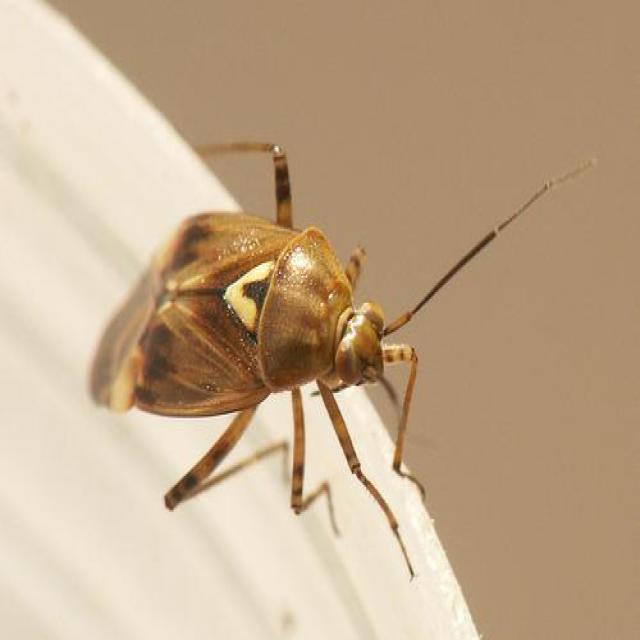Miridae-Adult-: (84, 134, 586, 579)
